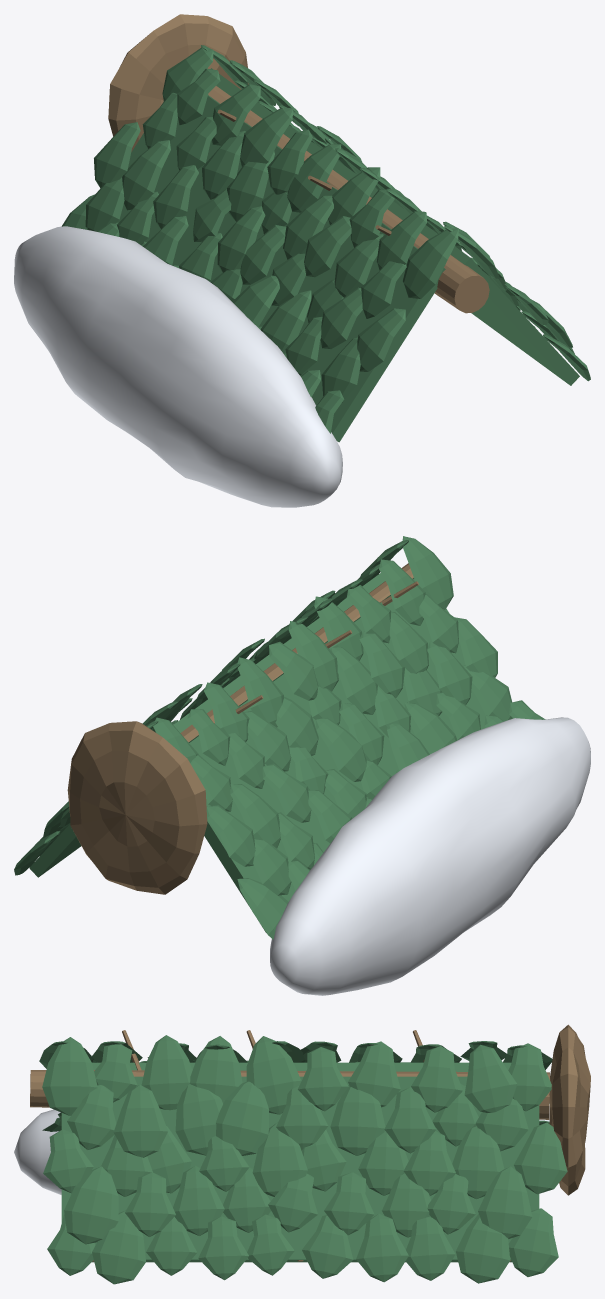
Rendered from FallenLog.glb.
3 views of the same model, one above another, from view 1: azimuth 30°, elevation 25°; view 2: azimuth 150°, elevation 25°; view 3: azimuth 270°, elevation 25° (orthographic). The views are drawn at different scales.
Parts seen in each view (by area): view 1: s3_5__thatch-1, s5_5__snowbank, s3_5__roofmat-1, s1_5__rootplate, s3_5__thatch1, s3_5__roofmat1, s1_5__log; view 2: s3_5__thatch-1, s5_5__snowbank, s1_5__rootplate, s3_5__roofmat-1, s3_5__thatch1, s3_5__roofmat1, s1_5__log; view 3: s3_5__thatch1, s3_5__roofmat1, s1_5__rootplate, s3_5__thatch-1, s5_5__snowbank, s1_5__log, s3_5__roofmat-1, s1_5__stubs.
Boxes of the visible parts, bbox=[...] form: s3_5__thatch-1: bbox=[61, 47, 458, 433]; s5_5__snowbank: bbox=[14, 226, 342, 507]; s3_5__roofmat-1: bbox=[117, 95, 445, 442]; s1_5__rootplate: bbox=[108, 14, 248, 151]; s3_5__thatch1: bbox=[201, 45, 590, 381]; s3_5__roofmat1: bbox=[210, 68, 579, 385]; s1_5__log: bbox=[208, 86, 489, 313]; s3_5__thatch-1: bbox=[153, 536, 545, 939]; s5_5__snowbank: bbox=[270, 717, 590, 995]; s1_5__rootplate: bbox=[67, 721, 207, 894]; s3_5__roofmat-1: bbox=[189, 578, 512, 932]; s3_5__thatch1: bbox=[14, 540, 408, 875]; s3_5__roofmat1: bbox=[29, 573, 385, 877]; s1_5__log: bbox=[180, 563, 413, 742]; s3_5__thatch1: bbox=[42, 1035, 567, 1284]; s3_5__roofmat1: bbox=[61, 1076, 539, 1262]; s1_5__rootplate: bbox=[549, 1024, 590, 1195]; s3_5__thatch-1: bbox=[39, 1041, 552, 1131]; s5_5__snowbank: bbox=[14, 1109, 549, 1194]; s1_5__log: bbox=[30, 1070, 549, 1119]; s3_5__roofmat-1: bbox=[92, 1062, 511, 1071]; s1_5__stubs: bbox=[122, 1030, 424, 1070].
Bounding box in the file's own units: 3.7 × 2.91 × 5.56.
